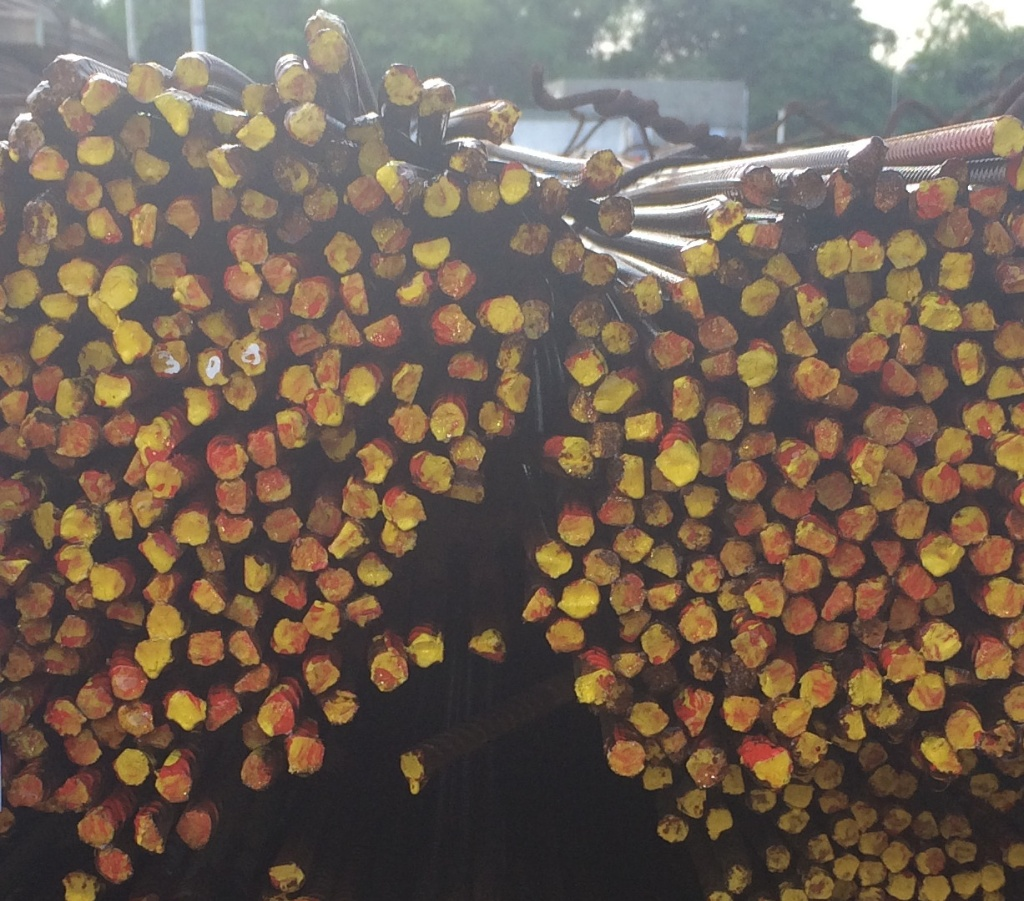dipstick: (775, 437, 817, 486), (651, 445, 697, 489), (308, 28, 350, 74), (137, 531, 185, 571), (410, 451, 453, 495), (950, 340, 992, 385), (99, 266, 139, 312), (283, 102, 325, 145), (113, 320, 153, 365), (934, 206, 975, 248), (271, 155, 314, 195), (921, 535, 964, 575), (9, 113, 44, 162), (798, 358, 839, 399), (432, 305, 474, 345), (865, 406, 907, 446), (558, 579, 601, 618), (684, 749, 727, 788), (659, 380, 702, 419), (153, 95, 191, 139), (60, 507, 104, 545), (771, 482, 816, 519), (343, 364, 383, 405), (209, 147, 249, 188), (346, 176, 387, 216), (847, 332, 887, 373), (968, 535, 1010, 574), (899, 402, 937, 445), (961, 399, 1004, 437), (854, 442, 891, 486), (222, 264, 262, 304), (174, 274, 215, 313), (230, 333, 269, 374), (323, 231, 362, 272), (888, 228, 927, 269), (985, 576, 1024, 617), (55, 421, 99, 457), (828, 169, 862, 215), (423, 177, 462, 217), (560, 437, 600, 476), (919, 176, 958, 216), (728, 461, 766, 502), (586, 149, 623, 191), (28, 81, 62, 126), (782, 554, 821, 593), (796, 516, 835, 555), (945, 710, 984, 749), (287, 737, 325, 777), (304, 389, 345, 426), (565, 349, 606, 386), (610, 572, 646, 614), (82, 74, 120, 113), (168, 691, 206, 730), (136, 638, 174, 677), (370, 652, 408, 691), (389, 404, 428, 442), (384, 65, 423, 103), (570, 298, 608, 337), (641, 625, 680, 663), (678, 605, 717, 643), (740, 279, 779, 317), (171, 55, 208, 95), (20, 202, 57, 242), (199, 309, 239, 346), (738, 349, 778, 386), (30, 324, 66, 365), (228, 227, 269, 263), (575, 669, 616, 705), (652, 332, 694, 367), (724, 502, 766, 537), (44, 58, 83, 95), (15, 580, 54, 617), (597, 197, 634, 236), (626, 275, 663, 314), (304, 497, 340, 537), (894, 499, 930, 539), (45, 700, 86, 735), (873, 170, 908, 211), (868, 299, 910, 333), (3, 269, 40, 307), (147, 252, 185, 289), (390, 492, 427, 530), (280, 366, 317, 404), (614, 525, 652, 562), (722, 695, 760, 732), (746, 579, 784, 616), (798, 669, 835, 707), (950, 507, 987, 545), (54, 379, 90, 418), (62, 729, 101, 765), (262, 507, 301, 543), (396, 272, 435, 308), (586, 422, 625, 458), (773, 699, 812, 735), (816, 471, 852, 510), (924, 463, 960, 502), (976, 641, 1012, 680), (67, 172, 102, 212), (401, 752, 436, 792), (371, 218, 411, 253), (837, 506, 877, 541), (811, 419, 846, 459), (792, 169, 827, 209), (22, 408, 56, 449), (498, 371, 532, 412), (816, 238, 850, 279), (850, 231, 884, 272), (56, 260, 98, 293), (337, 273, 370, 315), (583, 548, 620, 585), (439, 261, 476, 298), (885, 358, 922, 395), (221, 372, 257, 410), (176, 812, 212, 850), (607, 740, 645, 776), (709, 203, 745, 241), (707, 404, 743, 442), (923, 623, 959, 661), (304, 601, 339, 640), (478, 401, 517, 436), (682, 483, 721, 518), (269, 620, 309, 654), (795, 283, 828, 324), (94, 372, 130, 409), (97, 847, 133, 884), (113, 749, 150, 785), (381, 520, 418, 556), (536, 541, 572, 578), (487, 295, 523, 332), (78, 340, 116, 375), (827, 542, 865, 577), (215, 480, 254, 514), (130, 204, 163, 244), (629, 702, 669, 735), (968, 185, 1009, 217), (60, 97, 96, 133), (357, 446, 393, 482), (683, 240, 719, 276), (759, 660, 795, 696), (316, 567, 353, 602), (365, 313, 402, 348), (262, 257, 297, 294), (869, 472, 904, 509), (762, 253, 799, 288), (131, 151, 169, 185), (344, 593, 382, 627), (254, 468, 292, 502), (210, 444, 248, 478), (318, 425, 356, 459), (291, 283, 329, 317), (240, 187, 279, 220), (305, 182, 338, 221), (29, 148, 69, 180), (31, 364, 63, 404), (520, 299, 552, 339), (490, 101, 521, 142), (165, 201, 200, 237), (101, 410, 136, 446), (153, 341, 189, 376), (146, 462, 181, 498), (131, 491, 166, 527), (55, 545, 91, 580), (77, 813, 113, 848), (699, 349, 735, 384), (936, 427, 972, 462), (127, 65, 161, 102), (198, 348, 232, 385), (275, 410, 309, 447), (430, 404, 464, 441), (743, 167, 777, 204), (791, 733, 828, 767), (290, 538, 328, 571), (343, 485, 381, 518), (120, 112, 152, 151), (287, 323, 326, 355), (512, 222, 551, 254), (280, 68, 315, 103), (16, 230, 50, 266), (358, 141, 394, 175), (721, 542, 755, 578), (982, 220, 1016, 256), (908, 675, 944, 709), (118, 704, 155, 737), (257, 701, 294, 734), (215, 509, 252, 542), (412, 235, 449, 268), (421, 78, 454, 115), (885, 268, 922, 301), (939, 252, 972, 289), (8, 726, 46, 758), (546, 620, 584, 652), (142, 573, 181, 604), (448, 350, 487, 381), (993, 116, 1024, 155), (191, 579, 226, 613), (188, 631, 223, 665), (328, 312, 362, 347), (248, 295, 283, 329), (687, 558, 722, 592), (153, 311, 194, 340), (522, 586, 555, 622), (450, 437, 486, 470), (172, 512, 209, 544), (242, 83, 279, 115), (758, 525, 790, 562), (343, 113, 382, 143), (698, 317, 737, 347), (393, 363, 422, 403), (995, 320, 1024, 360), (105, 181, 139, 215), (79, 471, 113, 505), (644, 543, 678, 577), (56, 777, 91, 810), (499, 169, 532, 204), (603, 321, 638, 354), (783, 322, 818, 355), (228, 595, 264, 627), (242, 556, 274, 592), (357, 553, 393, 585), (75, 687, 112, 718), (469, 630, 506, 661), (90, 565, 124, 598), (8, 774, 41, 808), (305, 661, 339, 694), (324, 690, 357, 724), (272, 576, 306, 609), (467, 177, 500, 211), (835, 706, 869, 739), (133, 817, 165, 852), (687, 647, 722, 679), (55, 616, 91, 647), (811, 620, 847, 651), (43, 646, 80, 676), (88, 208, 122, 240), (903, 565, 935, 599), (112, 669, 147, 700), (558, 515, 593, 546), (677, 520, 712, 551), (4, 644, 34, 680), (784, 598, 814, 634), (988, 367, 1024, 397), (855, 582, 885, 618), (62, 872, 99, 901), (598, 496, 635, 525), (368, 252, 406, 280), (237, 665, 269, 698), (278, 210, 311, 242), (184, 134, 215, 168), (582, 253, 616, 284), (878, 842, 912, 873), (848, 670, 879, 704), (540, 178, 570, 213), (246, 430, 275, 466), (450, 149, 486, 178), (241, 757, 274, 788), (644, 580, 677, 611), (701, 442, 731, 476), (889, 652, 923, 682), (551, 240, 583, 271), (641, 494, 673, 525), (867, 765, 898, 797), (229, 631, 259, 664), (106, 599, 144, 625), (78, 136, 113, 164), (156, 775, 191, 803), (41, 292, 77, 318), (657, 813, 689, 842), (1, 392, 28, 426), (677, 789, 708, 818), (410, 639, 442, 667), (270, 865, 304, 891), (211, 186, 236, 221), (886, 870, 916, 899), (196, 541, 224, 572), (949, 871, 980, 899), (18, 617, 51, 643), (918, 875, 951, 901), (880, 807, 910, 835), (939, 814, 971, 840), (803, 873, 833, 900), (777, 808, 809, 833), (806, 834, 834, 862), (832, 818, 860, 846), (728, 864, 755, 893), (917, 848, 946, 875), (911, 810, 938, 839), (856, 860, 886, 886), (745, 788, 776, 813), (831, 853, 859, 880), (859, 742, 887, 769), (784, 782, 813, 808), (819, 789, 850, 813), (1, 697, 21, 733), (851, 801, 877, 828), (948, 838, 976, 863), (858, 832, 887, 856), (818, 760, 842, 789), (980, 865, 1005, 892), (44, 448, 75, 469), (763, 846, 788, 872), (63, 223, 86, 245), (708, 810, 731, 830)
